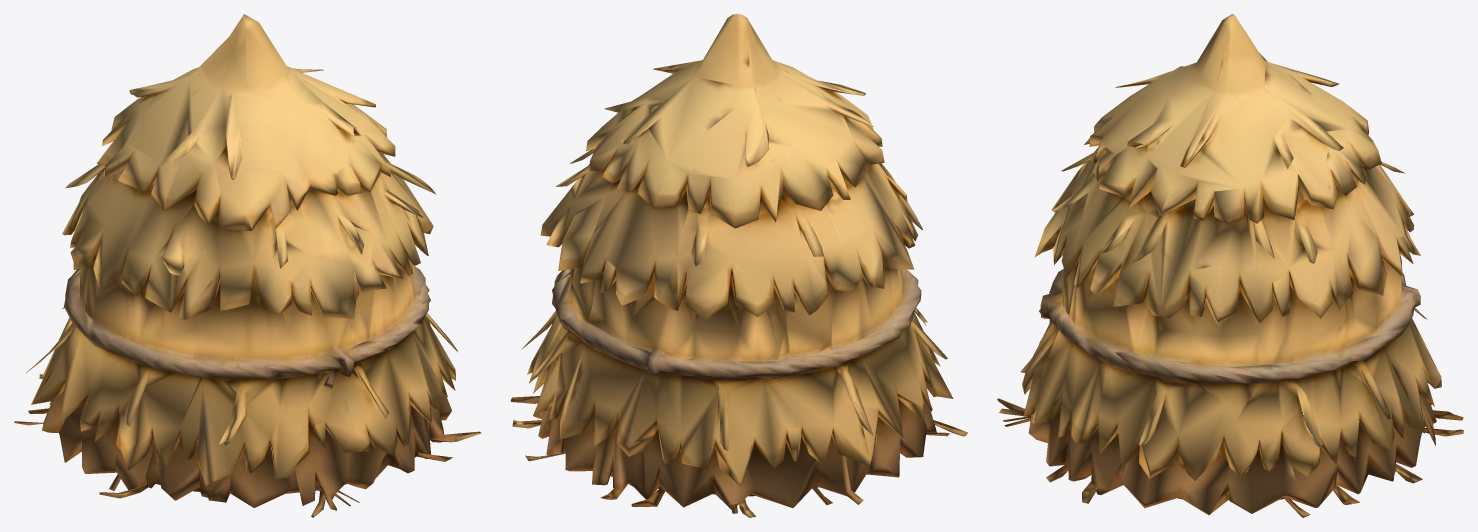
The model's file is haystack-round.glb.
3 views of the same model, side by side, from view 1: azimuth 30°, elevation 25°; view 2: azimuth 150°, elevation 25°; view 3: azimuth 270°, elevation 25° (orthographic).
Parts seen in each view (by area): view 1: node_0; view 2: node_0; view 3: node_0.
Boxes of the visible parts, x1,y1,x2,y2 form: node_0: [14, 14, 481, 517]; node_0: [510, 14, 967, 517]; node_0: [997, 14, 1463, 517].
Size of the model in its own units: 2.48 by 2.6 by 2.63.
1 material, 1 textured.
